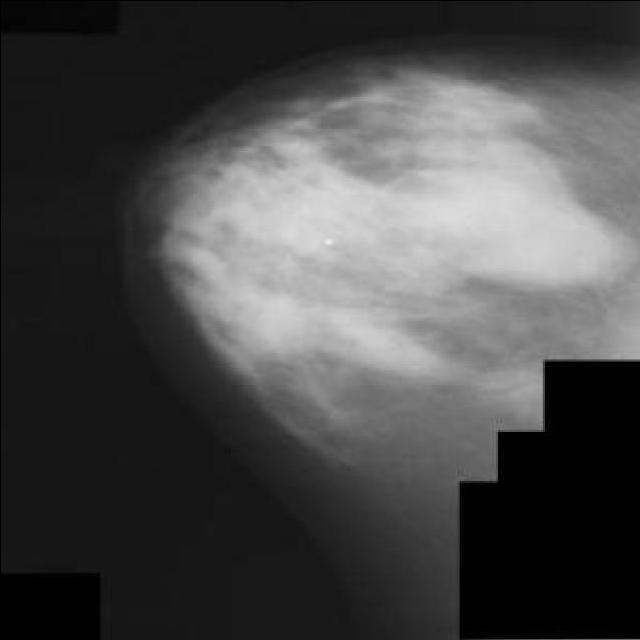tumor: (398, 74, 616, 296), (182, 116, 364, 379)
